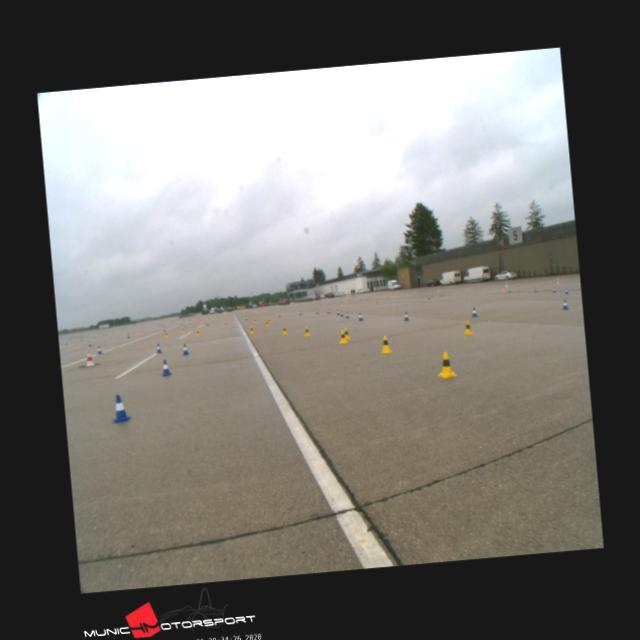blue_cone: (110, 393, 130, 422), (160, 358, 170, 375), (561, 298, 568, 309), (182, 342, 188, 354), (472, 306, 478, 316), (156, 342, 162, 352), (403, 311, 409, 320), (96, 346, 102, 354), (358, 312, 363, 320), (564, 287, 568, 294), (345, 311, 349, 318)
yellow_cone: (435, 349, 455, 376), (378, 334, 391, 352), (462, 319, 473, 334), (338, 329, 348, 344), (342, 326, 350, 339), (302, 325, 310, 337), (281, 324, 287, 334), (248, 325, 254, 333), (195, 328, 199, 336), (164, 331, 168, 337)
